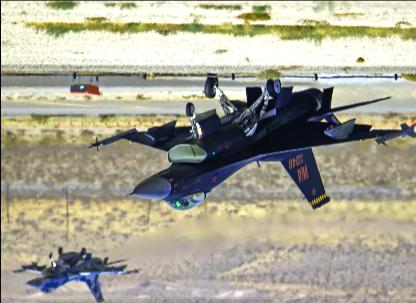F14: (86, 77, 415, 211), (9, 246, 139, 301)
